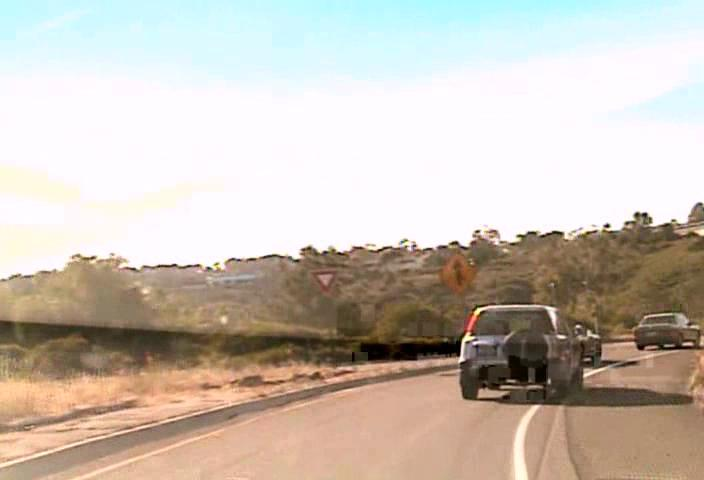yield: (311, 268, 339, 293)
